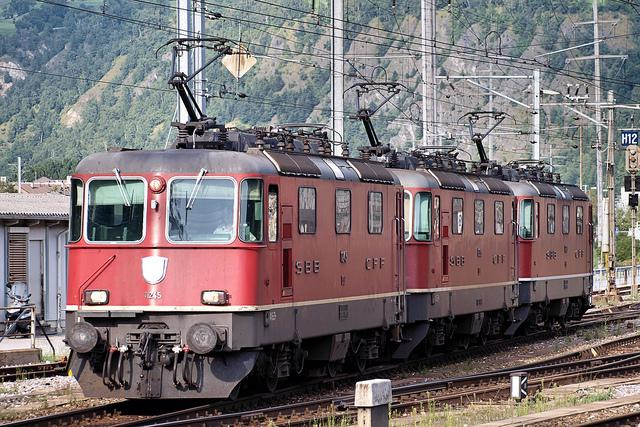Train: (69, 116, 596, 402)
